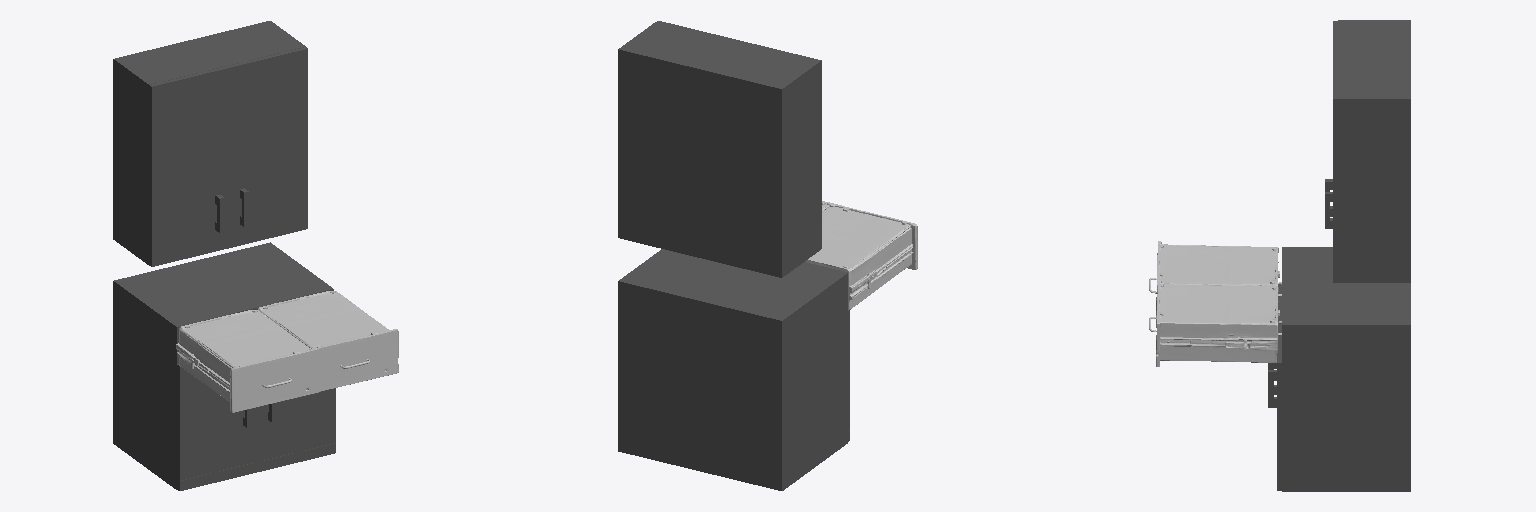
--- What the picture shows (computed from the rendered views, not written in the file) ---
Views: 3 orthographic renders of the robot side by side, from view 1: azimuth 30°, elevation 25°; view 2: azimuth 150°, elevation 25°; view 3: azimuth 270°, elevation 25°.
Model Scene with 11 links and 10 joints (4 revolute, 2 prismatic, 4 fixed), rooted at world, posed every joint at zero.
Links seen in each view (by area): view 1: lower_cabinet_corpus, upper_cabinet_door_0_0, upper_cabinet_door_1_0, upper_cabinet_corpus, lower_cabinet_drawer_0_0, lower_cabinet_drawer_1_0, lower_cabinet_door_0_1, lower_cabinet_door_1_1; view 2: lower_cabinet_corpus, upper_cabinet_corpus, lower_cabinet_drawer_0_0, upper_cabinet_door_0_0; view 3: lower_cabinet_corpus, upper_cabinet_corpus, lower_cabinet_drawer_1_0, lower_cabinet_drawer_0_0, upper_cabinet_door_1_0, lower_cabinet_door_1_1.
Link boxes in pixels (x1,y1,x2,y2): lower_cabinet_corpus: (113,242,335,490); upper_cabinet_door_0_0: (149,66,229,266); upper_cabinet_door_1_0: (228,47,307,247); upper_cabinet_corpus: (113,21,305,264); lower_cabinet_drawer_0_0: (176,310,319,412); lower_cabinet_drawer_1_0: (258,291,398,391); lower_cabinet_door_0_1: (177,364,257,480); lower_cabinet_door_1_1: (258,388,335,461); lower_cabinet_corpus: (618,249,849,490); upper_cabinet_corpus: (618,22,819,277); lower_cabinet_drawer_0_0: (805,202,917,309); upper_cabinet_door_0_0: (739,41,821,249); lower_cabinet_corpus: (1277,247,1410,491); upper_cabinet_corpus: (1338,20,1410,282); lower_cabinet_drawer_1_0: (1149,280,1281,366); lower_cabinet_drawer_0_0: (1149,241,1281,327); upper_cabinet_door_1_0: (1325,60,1337,282); lower_cabinet_door_1_1: (1268,324,1281,479).
Size in the robot's own frame: 0.8491 by 1.13 by 1.87 metres.
2 mesh visuals loaded from 2 distinct referenced files (2 OBJ).

URDF robot description (Scene):
<?xml version='1.0' encoding='ASCII'?>
<robot name="Scene">
  <link name="lower_cabinet_corpus">
    <inertial>
      <origin xyz="0.0 0.0 0.0" rpy="0.0 -0.0 0.0" />
      <mass value="0.0632288634258373" />
      <inertia ixx="1.0" ixy="0.0" ixz="0.0" iyy="1.0" iyz="0.0" izz="1.0" />
    </inertial>
    <visual name="lower_cabinet_back">
      <geometry>
        <box size="0.8 0.02 0.7742" />
      </geometry>
      <origin xyz="0.0 0.27999999999999997 0.3871" rpy="0.0 -0.0 0.0" />
      <material name="lower_cabinet_back_main_color">
        <color rgba="0.4 0.4 0.4 1.0" />
      </material>
    </visual>
    <visual name="lower_cabinet_closed_0_2">
      <geometry>
        <box size="0.796 0.02 0.04997751196172249" />
      </geometry>
      <origin xyz="0.0 -0.27999999999999997 0.026988755980861433" rpy="0.0 -0.0 0.0" />
      <material name="lower_cabinet_closed_0_2_main_color">
        <color rgba="0.4 0.4 0.4 1.0" />
      </material>
    </visual>
    <visual name="lower_cabinet_left">
      <geometry>
        <box size="0.02 0.5399999999999999 0.7742" />
      </geometry>
      <origin xyz="-0.39 0.0 0.3871" rpy="0.0 -0.0 0.0" />
      <material name="lower_cabinet_left_main_color">
        <color rgba="0.4 0.4 0.4 1.0" />
      </material>
    </visual>
    <visual name="lower_cabinet_right">
      <geometry>
        <box size="0.02 0.5399999999999999 0.7742" />
      </geometry>
      <origin xyz="0.39 0.0 0.3871" rpy="0.0 -0.0 0.0" />
      <material name="lower_cabinet_right_main_color">
        <color rgba="0.4 0.4 0.4 1.0" />
      </material>
    </visual>
    <visual name="lower_cabinet_separator_0_0">
      <geometry>
        <box size="0.01 0.5399999999999999 0.1614379249559305" />
      </geometry>
      <origin xyz="0.0 0.0 0.6934810375220347" rpy="0.0 -0.0 0.0" />
      <material name="lower_cabinet_separator_0_0_main_color">
        <color rgba="0.4 0.4 0.4 1.0" />
      </material>
    </visual>
    <visual name="lower_cabinet_separator_0_1">
      <geometry>
        <box size="0.01 0.5399999999999999 0.5602845630823469" />
      </geometry>
      <origin xyz="0.0 0.0 0.332619793502896" rpy="0.0 -0.0 0.0" />
      <material name="lower_cabinet_separator_0_1_main_color">
        <color rgba="0.4 0.4 0.4 1.0" />
      </material>
    </visual>
    <visual name="lower_cabinet_shelf_2_0_0">
      <geometry>
        <box size="0.375 0.5399999999999999 0.01" />
      </geometry>
      <origin xyz="-0.1925 0.0 0.3326197935028961" rpy="0.0 -0.0 0.0" />
      <material name="lower_cabinet_shelf_2_0_0_main_color">
        <color rgba="0.4 0.4 0.4 1.0" />
      </material>
    </visual>
    <visual name="lower_cabinet_shelf_3_0_0">
      <geometry>
        <box size="0.375 0.5399999999999999 0.01" />
      </geometry>
      <origin xyz="0.1925 0.0 0.3326197935028961" rpy="0.0 -0.0 0.0" />
      <material name="lower_cabinet_shelf_3_0_0_main_color">
        <color rgba="0.4 0.4 0.4 1.0" />
      </material>
    </visual>
    <visual name="lower_cabinet_surface_0_0">
      <geometry>
        <box size="0.38 0.5399999999999999 0.01" />
      </geometry>
      <origin xyz="-0.19 0.0 0.6127620750440694" rpy="0.0 -0.0 0.0" />
      <material name="lower_cabinet_surface_0_0_main_color">
        <color rgba="0.4 0.4 0.4 1.0" />
      </material>
    </visual>
    <visual name="lower_cabinet_surface_0_1">
      <geometry>
        <box size="0.38 0.5399999999999999 0.01" />
      </geometry>
      <origin xyz="-0.19 0.0 0.05247751196172257" rpy="0.0 -0.0 0.0" />
      <material name="lower_cabinet_surface_0_1_main_color">
        <color rgba="0.4 0.4 0.4 1.0" />
      </material>
    </visual>
    <visual name="lower_cabinet_surface_0_2">
      <geometry>
        <box size="0.38 0.5399999999999999 0.02" />
      </geometry>
      <origin xyz="-0.19 0.0 0.010000000000000191" rpy="0.0 -0.0 0.0" />
      <material name="lower_cabinet_surface_0_2_main_color">
        <color rgba="0.4 0.4 0.4 1.0" />
      </material>
    </visual>
    <visual name="lower_cabinet_surface_1_0">
      <geometry>
        <box size="0.38 0.5399999999999999 0.01" />
      </geometry>
      <origin xyz="0.19 0.0 0.6127620750440694" rpy="0.0 -0.0 0.0" />
      <material name="lower_cabinet_surface_1_0_main_color">
        <color rgba="0.4 0.4 0.4 1.0" />
      </material>
    </visual>
    <visual name="lower_cabinet_surface_1_1">
      <geometry>
        <box size="0.38 0.5399999999999999 0.01" />
      </geometry>
      <origin xyz="0.19 0.0 0.05247751196172257" rpy="0.0 -0.0 0.0" />
      <material name="lower_cabinet_surface_1_1_main_color">
        <color rgba="0.4 0.4 0.4 1.0" />
      </material>
    </visual>
    <visual name="lower_cabinet_surface_1_2">
      <geometry>
        <box size="0.38 0.5399999999999999 0.02" />
      </geometry>
      <origin xyz="0.19 0.0 0.010000000000000191" rpy="0.0 -0.0 0.0" />
      <material name="lower_cabinet_surface_1_2_main_color">
        <color rgba="0.4 0.4 0.4 1.0" />
      </material>
    </visual>
    <visual name="lower_cabinet_top">
      <geometry>
        <box size="0.8 0.5599999999999999 0.02" />
      </geometry>
      <origin xyz="0.0 0.01 0.7842" rpy="0.0 -0.0 0.0" />
      <material name="lower_cabinet_top_main_color">
        <color rgba="0.4 0.4 0.4 1.0" />
      </material>
    </visual>
    <collision name="lower_cabinet_back">
      <geometry>
        <box size="0.8 0.02 0.7742" />
      </geometry>
      <origin xyz="0.0 0.27999999999999997 0.3871" rpy="0.0 -0.0 0.0" />
    </collision>
    <collision name="lower_cabinet_closed_0_2">
      <geometry>
        <box size="0.796 0.02 0.04997751196172249" />
      </geometry>
      <origin xyz="0.0 -0.27999999999999997 0.026988755980861433" rpy="0.0 -0.0 0.0" />
    </collision>
    <collision name="lower_cabinet_left">
      <geometry>
        <box size="0.02 0.5399999999999999 0.7742" />
      </geometry>
      <origin xyz="-0.39 0.0 0.3871" rpy="0.0 -0.0 0.0" />
    </collision>
    <collision name="lower_cabinet_right">
      <geometry>
        <box size="0.02 0.5399999999999999 0.7742" />
      </geometry>
      <origin xyz="0.39 0.0 0.3871" rpy="0.0 -0.0 0.0" />
    </collision>
    <collision name="lower_cabinet_separator_0_0">
      <geometry>
        <box size="0.01 0.5399999999999999 0.1614379249559305" />
      </geometry>
      <origin xyz="0.0 0.0 0.6934810375220347" rpy="0.0 -0.0 0.0" />
    </collision>
    <collision name="lower_cabinet_separator_0_1">
      <geometry>
        <box size="0.01 0.5399999999999999 0.5602845630823469" />
      </geometry>
      <origin xyz="0.0 0.0 0.332619793502896" rpy="0.0 -0.0 0.0" />
    </collision>
    <collision name="lower_cabinet_shelf_2_0_0">
      <geometry>
        <box size="0.375 0.5399999999999999 0.01" />
      </geometry>
      <origin xyz="-0.1925 0.0 0.3326197935028961" rpy="0.0 -0.0 0.0" />
    </collision>
    <collision name="lower_cabinet_shelf_3_0_0">
      <geometry>
        <box size="0.375 0.5399999999999999 0.01" />
      </geometry>
      <origin xyz="0.1925 0.0 0.3326197935028961" rpy="0.0 -0.0 0.0" />
    </collision>
    <collision name="lower_cabinet_surface_0_0">
      <geometry>
        <box size="0.38 0.5399999999999999 0.01" />
      </geometry>
      <origin xyz="-0.19 0.0 0.6127620750440694" rpy="0.0 -0.0 0.0" />
    </collision>
    <collision name="lower_cabinet_surface_0_1">
      <geometry>
        <box size="0.38 0.5399999999999999 0.01" />
      </geometry>
      <origin xyz="-0.19 0.0 0.05247751196172257" rpy="0.0 -0.0 0.0" />
    </collision>
    <collision name="lower_cabinet_surface_0_2">
      <geometry>
        <box size="0.38 0.5399999999999999 0.02" />
      </geometry>
      <origin xyz="-0.19 0.0 0.010000000000000191" rpy="0.0 -0.0 0.0" />
    </collision>
    <collision name="lower_cabinet_surface_1_0">
      <geometry>
        <box size="0.38 0.5399999999999999 0.01" />
      </geometry>
      <origin xyz="0.19 0.0 0.6127620750440694" rpy="0.0 -0.0 0.0" />
    </collision>
    <collision name="lower_cabinet_surface_1_1">
      <geometry>
        <box size="0.38 0.5399999999999999 0.01" />
      </geometry>
      <origin xyz="0.19 0.0 0.05247751196172257" rpy="0.0 -0.0 0.0" />
    </collision>
    <collision name="lower_cabinet_surface_1_2">
      <geometry>
        <box size="0.38 0.5399999999999999 0.02" />
      </geometry>
      <origin xyz="0.19 0.0 0.010000000000000191" rpy="0.0 -0.0 0.0" />
    </collision>
    <collision name="lower_cabinet_top">
      <geometry>
        <box size="0.8 0.5599999999999999 0.02" />
      </geometry>
      <origin xyz="0.0 0.01 0.7842" rpy="0.0 -0.0 0.0" />
    </collision>
  </link>
  <link name="lower_cabinet_drawer_0_0">
    <inertial>
      <origin xyz="0.0 0.0 0.0" rpy="0.0 -0.0 0.0" />
      <mass value="0.10000000000000002" />
      <inertia ixx="1.0" ixy="0.0" ixz="0.0" iyy="1.0" iyz="0.0" izz="1.0" />
    </inertial>
    <visual><geometry><mesh filename="initial_scene/lower_cabinet_drawer_0_0.obj" /></geometry><material name="lower_cabinet_drawer_0_0_material"><color rgba="0.8 0.8 0.8 1.0" /></material></visual><collision><geometry><box size="0.397500 0.614100 0.178938" /></geometry><origin xyz="-0.006750 0.176950 0.006750" rpy="0 0 0" /></collision></link>
  <link name="lower_cabinet_drawer_1_0">
    <inertial>
      <origin xyz="0.0 0.0 0.0" rpy="0.0 -0.0 0.0" />
      <mass value="0.10000000000000002" />
      <inertia ixx="1.0" ixy="0.0" ixz="0.0" iyy="1.0" iyz="0.0" izz="1.0" />
    </inertial>
    <visual><geometry><mesh filename="initial_scene/lower_cabinet_drawer_1_0.obj" /></geometry><material name="lower_cabinet_drawer_1_0_material"><color rgba="0.8 0.8 0.8 1.0" /></material></visual><collision><geometry><box size="0.397500 0.614100 0.178938" /></geometry><origin xyz="0.006750 0.176950 0.006750" rpy="0 0 0" /></collision></link>
  <link name="lower_cabinet_door_0_1">
    <inertial>
      <origin xyz="0.0 0.0 0.0" rpy="0.0 -0.0 0.0" />
      <mass value="0.1" />
      <inertia ixx="1.0" ixy="0.0" ixz="0.0" iyy="1.0" iyz="0.0" izz="1.0" />
    </inertial>
    <visual name="lower_cabinet_door_0_1_door">
      <geometry>
        <box size="0.3975 0.02 0.5592845630823469" />
      </geometry>
      <origin xyz="0.19875 0.01 0.0" rpy="0.0 -0.0 0.0" />
      <material name="lower_cabinet_door_0_1_door_main_color">
        <color rgba="0.4 0.4 0.4 1.0" />
      </material>
    </visual>
    <visual name="lower_cabinet_door_0_1_handle_part_0">
      <geometry>
        <box size="0.024 0.1682 0.024" />
      </geometry>
      <origin xyz="0.3355 -0.026 0.0" rpy="1.5707963267948966 -0.0 1.5707963267948966" />
      <material name="lower_cabinet_door_0_1_handle_part_0_main_color">
        <color rgba="0.4 0.4 0.4 1.0" />
      </material>
    </visual>
    <visual name="lower_cabinet_door_0_1_handle_part_1">
      <geometry>
        <box size="0.013999999999999999 0.04 0.024" />
      </geometry>
      <origin xyz="0.3355 -0.006999999999999999 -0.06409999999999999" rpy="1.5707963267948966 -0.0 1.5707963267948966" />
      <material name="lower_cabinet_door_0_1_handle_part_1_main_color">
        <color rgba="0.4 0.4 0.4 1.0" />
      </material>
    </visual>
    <visual name="lower_cabinet_door_0_1_handle_part_2">
      <geometry>
        <box size="0.013999999999999999 0.04 0.024" />
      </geometry>
      <origin xyz="0.3355 -0.006999999999999999 0.06409999999999999" rpy="1.5707963267948966 -0.0 1.5707963267948966" />
      <material name="lower_cabinet_door_0_1_handle_part_2_main_color">
        <color rgba="0.4 0.4 0.4 1.0" />
      </material>
    </visual>
    <collision name="lower_cabinet_door_0_1_door">
      <geometry>
        <box size="0.3975 0.02 0.5592845630823469" />
      </geometry>
      <origin xyz="0.19875 0.01 0.0" rpy="0.0 -0.0 0.0" />
    </collision>
    <collision name="lower_cabinet_door_0_1_handle_part_0">
      <geometry>
        <box size="0.024 0.1682 0.024" />
      </geometry>
      <origin xyz="0.3355 -0.026 0.0" rpy="1.5707963267948966 -0.0 1.5707963267948966" />
    </collision>
    <collision name="lower_cabinet_door_0_1_handle_part_1">
      <geometry>
        <box size="0.013999999999999999 0.04 0.024" />
      </geometry>
      <origin xyz="0.3355 -0.006999999999999999 -0.06409999999999999" rpy="1.5707963267948966 -0.0 1.5707963267948966" />
    </collision>
    <collision name="lower_cabinet_door_0_1_handle_part_2">
      <geometry>
        <box size="0.013999999999999999 0.04 0.024" />
      </geometry>
      <origin xyz="0.3355 -0.006999999999999999 0.06409999999999999" rpy="1.5707963267948966 -0.0 1.5707963267948966" />
    </collision>
  </link>
  <link name="lower_cabinet_door_1_1">
    <inertial>
      <origin xyz="0.0 0.0 0.0" rpy="0.0 -0.0 0.0" />
      <mass value="0.1" />
      <inertia ixx="1.0" ixy="0.0" ixz="0.0" iyy="1.0" iyz="0.0" izz="1.0" />
    </inertial>
    <visual name="lower_cabinet_door_1_1_door">
      <geometry>
        <box size="0.3975 0.02 0.5592845630823469" />
      </geometry>
      <origin xyz="-0.19875 0.01 0.0" rpy="0.0 -0.0 0.0" />
      <material name="lower_cabinet_door_1_1_door_main_color">
        <color rgba="0.4 0.4 0.4 1.0" />
      </material>
    </visual>
    <visual name="lower_cabinet_door_1_1_handle_part_0">
      <geometry>
        <box size="0.024 0.1682 0.024" />
      </geometry>
      <origin xyz="-0.3355 -0.026 0.0" rpy="1.5707963267948966 -0.0 1.5707963267948966" />
      <material name="lower_cabinet_door_1_1_handle_part_0_main_color">
        <color rgba="0.4 0.4 0.4 1.0" />
      </material>
    </visual>
    <visual name="lower_cabinet_door_1_1_handle_part_1">
      <geometry>
        <box size="0.013999999999999999 0.04 0.024" />
      </geometry>
      <origin xyz="-0.3355 -0.006999999999999999 -0.06409999999999999" rpy="1.5707963267948966 -0.0 1.5707963267948966" />
      <material name="lower_cabinet_door_1_1_handle_part_1_main_color">
        <color rgba="0.4 0.4 0.4 1.0" />
      </material>
    </visual>
    <visual name="lower_cabinet_door_1_1_handle_part_2">
      <geometry>
        <box size="0.013999999999999999 0.04 0.024" />
      </geometry>
      <origin xyz="-0.3355 -0.006999999999999999 0.06409999999999999" rpy="1.5707963267948966 -0.0 1.5707963267948966" />
      <material name="lower_cabinet_door_1_1_handle_part_2_main_color">
        <color rgba="0.4 0.4 0.4 1.0" />
      </material>
    </visual>
    <collision name="lower_cabinet_door_1_1_door">
      <geometry>
        <box size="0.3975 0.02 0.5592845630823469" />
      </geometry>
      <origin xyz="-0.19875 0.01 0.0" rpy="0.0 -0.0 0.0" />
    </collision>
    <collision name="lower_cabinet_door_1_1_handle_part_0">
      <geometry>
        <box size="0.024 0.1682 0.024" />
      </geometry>
      <origin xyz="-0.3355 -0.026 0.0" rpy="1.5707963267948966 -0.0 1.5707963267948966" />
    </collision>
    <collision name="lower_cabinet_door_1_1_handle_part_1">
      <geometry>
        <box size="0.013999999999999999 0.04 0.024" />
      </geometry>
      <origin xyz="-0.3355 -0.006999999999999999 -0.06409999999999999" rpy="1.5707963267948966 -0.0 1.5707963267948966" />
    </collision>
    <collision name="lower_cabinet_door_1_1_handle_part_2">
      <geometry>
        <box size="0.013999999999999999 0.04 0.024" />
      </geometry>
      <origin xyz="-0.3355 -0.006999999999999999 0.06409999999999999" rpy="1.5707963267948966 -0.0 1.5707963267948966" />
    </collision>
  </link>
  <link name="upper_cabinet_corpus">
    <inertial>
      <origin xyz="0.0 0.0 0.0" rpy="0.0 -0.0 0.0" />
      <mass value="0.024543200000000008" />
      <inertia ixx="1.0" ixy="0.0" ixz="0.0" iyy="1.0" iyz="0.0" izz="1.0" />
    </inertial>
    <visual name="upper_cabinet_back">
      <geometry>
        <box size="0.8 0.01 0.87" />
      </geometry>
      <origin xyz="0.0 0.16300000000000003 0.435" rpy="0.0 -0.0 0.0" />
      <material name="upper_cabinet_back_main_color">
        <color rgba="0.4 0.4 0.4 1.0" />
      </material>
    </visual>
    <visual name="upper_cabinet_left">
      <geometry>
        <box size="0.01 0.30600000000000005 0.87" />
      </geometry>
      <origin xyz="-0.395 0.005 0.435" rpy="0.0 -0.0 0.0" />
      <material name="upper_cabinet_left_main_color">
        <color rgba="0.4 0.4 0.4 1.0" />
      </material>
    </visual>
    <visual name="upper_cabinet_right">
      <geometry>
        <box size="0.01 0.30600000000000005 0.87" />
      </geometry>
      <origin xyz="0.395 0.005 0.435" rpy="0.0 -0.0 0.0" />
      <material name="upper_cabinet_right_main_color">
        <color rgba="0.4 0.4 0.4 1.0" />
      </material>
    </visual>
    <visual name="upper_cabinet_separator_0_0">
      <geometry>
        <box size="0.01 0.30600000000000005 0.86" />
      </geometry>
      <origin xyz="0.0 0.005 0.44" rpy="0.0 -0.0 0.0" />
      <material name="upper_cabinet_separator_0_0_main_color">
        <color rgba="0.4 0.4 0.4 1.0" />
      </material>
    </visual>
    <visual name="upper_cabinet_shelf_0_0_0">
      <geometry>
        <box size="0.385 0.30600000000000005 0.01" />
      </geometry>
      <origin xyz="-0.1975 0.005 0.5833333333333333" rpy="0.0 -0.0 0.0" />
      <material name="upper_cabinet_shelf_0_0_0_main_color">
        <color rgba="0.4 0.4 0.4 1.0" />
      </material>
    </visual>
    <visual name="upper_cabinet_shelf_0_0_1">
      <geometry>
        <box size="0.385 0.30600000000000005 0.01" />
      </geometry>
      <origin xyz="-0.1975 0.005 0.29666666666666663" rpy="0.0 -0.0 0.0" />
      <material name="upper_cabinet_shelf_0_0_1_main_color">
        <color rgba="0.4 0.4 0.4 1.0" />
      </material>
    </visual>
    <visual name="upper_cabinet_shelf_1_0_0">
      <geometry>
        <box size="0.385 0.30600000000000005 0.01" />
      </geometry>
      <origin xyz="0.1975 0.005 0.5833333333333333" rpy="0.0 -0.0 0.0" />
      <material name="upper_cabinet_shelf_1_0_0_main_color">
        <color rgba="0.4 0.4 0.4 1.0" />
      </material>
    </visual>
    <visual name="upper_cabinet_shelf_1_0_1">
      <geometry>
        <box size="0.385 0.30600000000000005 0.01" />
      </geometry>
      <origin xyz="0.1975 0.005 0.29666666666666663" rpy="0.0 -0.0 0.0" />
      <material name="upper_cabinet_shelf_1_0_1_main_color">
        <color rgba="0.4 0.4 0.4 1.0" />
      </material>
    </visual>
    <visual name="upper_cabinet_surface_0_0">
      <geometry>
        <box size="0.39 0.30600000000000005 0.01" />
      </geometry>
      <origin xyz="-0.195 0.005 0.005000000000000009" rpy="0.0 -0.0 0.0" />
      <material name="upper_cabinet_surface_0_0_main_color">
        <color rgba="0.4 0.4 0.4 1.0" />
      </material>
    </visual>
    <visual name="upper_cabinet_surface_1_0">
      <geometry>
        <box size="0.39 0.30600000000000005 0.01" />
      </geometry>
      <origin xyz="0.195 0.005 0.005000000000000009" rpy="0.0 -0.0 0.0" />
      <material name="upper_cabinet_surface_1_0_main_color">
        <color rgba="0.4 0.4 0.4 1.0" />
      </material>
    </visual>
    <visual name="upper_cabinet_top">
      <geometry>
        <box size="0.8 0.31600000000000006 0.01" />
      </geometry>
      <origin xyz="0.0 0.01 0.875" rpy="0.0 -0.0 0.0" />
      <material name="upper_cabinet_top_main_color">
        <color rgba="0.4 0.4 0.4 1.0" />
      </material>
    </visual>
    <collision name="upper_cabinet_back">
      <geometry>
        <box size="0.8 0.01 0.87" />
      </geometry>
      <origin xyz="0.0 0.16300000000000003 0.435" rpy="0.0 -0.0 0.0" />
    </collision>
    <collision name="upper_cabinet_left">
      <geometry>
        <box size="0.01 0.30600000000000005 0.87" />
      </geometry>
      <origin xyz="-0.395 0.005 0.435" rpy="0.0 -0.0 0.0" />
    </collision>
    <collision name="upper_cabinet_right">
      <geometry>
        <box size="0.01 0.30600000000000005 0.87" />
      </geometry>
      <origin xyz="0.395 0.005 0.435" rpy="0.0 -0.0 0.0" />
    </collision>
    <collision name="upper_cabinet_separator_0_0">
      <geometry>
        <box size="0.01 0.30600000000000005 0.86" />
      </geometry>
      <origin xyz="0.0 0.005 0.44" rpy="0.0 -0.0 0.0" />
    </collision>
    <collision name="upper_cabinet_shelf_0_0_0">
      <geometry>
        <box size="0.385 0.30600000000000005 0.01" />
      </geometry>
      <origin xyz="-0.1975 0.005 0.5833333333333333" rpy="0.0 -0.0 0.0" />
    </collision>
    <collision name="upper_cabinet_shelf_0_0_1">
      <geometry>
        <box size="0.385 0.30600000000000005 0.01" />
      </geometry>
      <origin xyz="-0.1975 0.005 0.29666666666666663" rpy="0.0 -0.0 0.0" />
    </collision>
    <collision name="upper_cabinet_shelf_1_0_0">
      <geometry>
        <box size="0.385 0.30600000000000005 0.01" />
      </geometry>
      <origin xyz="0.1975 0.005 0.5833333333333333" rpy="0.0 -0.0 0.0" />
    </collision>
    <collision name="upper_cabinet_shelf_1_0_1">
      <geometry>
        <box size="0.385 0.30600000000000005 0.01" />
      </geometry>
      <origin xyz="0.1975 0.005 0.29666666666666663" rpy="0.0 -0.0 0.0" />
    </collision>
    <collision name="upper_cabinet_surface_0_0">
      <geometry>
        <box size="0.39 0.30600000000000005 0.01" />
      </geometry>
      <origin xyz="-0.195 0.005 0.005000000000000009" rpy="0.0 -0.0 0.0" />
    </collision>
    <collision name="upper_cabinet_surface_1_0">
      <geometry>
        <box size="0.39 0.30600000000000005 0.01" />
      </geometry>
      <origin xyz="0.195 0.005 0.005000000000000009" rpy="0.0 -0.0 0.0" />
    </collision>
    <collision name="upper_cabinet_top">
      <geometry>
        <box size="0.8 0.31600000000000006 0.01" />
      </geometry>
      <origin xyz="0.0 0.01 0.875" rpy="0.0 -0.0 0.0" />
    </collision>
  </link>
  <link name="upper_cabinet_door_0_0">
    <inertial>
      <origin xyz="0.0 0.0 0.0" rpy="0.0 -0.0 0.0" />
      <mass value="0.09999999999999998" />
      <inertia ixx="1.0" ixy="0.0" ixz="0.0" iyy="1.0" iyz="0.0" izz="1.0" />
    </inertial>
    <visual name="upper_cabinet_door_0_0_door">
      <geometry>
        <box size="0.3985 0.02 0.878" />
      </geometry>
      <origin xyz="0.19925 0.01 0.0" rpy="0.0 -0.0 0.0" />
      <material name="upper_cabinet_door_0_0_door_main_color">
        <color rgba="0.4 0.4 0.4 1.0" />
      </material>
    </visual>
    <visual name="upper_cabinet_door_0_0_handle_part_0">
      <geometry>
        <box size="0.024 0.1682 0.024" />
      </geometry>
      <origin xyz="0.3365 -0.026 -0.25" rpy="1.5707963267948966 -0.0 1.5707963267948966" />
      <material name="upper_cabinet_door_0_0_handle_part_0_main_color">
        <color rgba="0.4 0.4 0.4 1.0" />
      </material>
    </visual>
    <visual name="upper_cabinet_door_0_0_handle_part_1">
      <geometry>
        <box size="0.013999999999999999 0.04 0.024" />
      </geometry>
      <origin xyz="0.3365 -0.006999999999999999 -0.3141" rpy="1.5707963267948966 -0.0 1.5707963267948966" />
      <material name="upper_cabinet_door_0_0_handle_part_1_main_color">
        <color rgba="0.4 0.4 0.4 1.0" />
      </material>
    </visual>
    <visual name="upper_cabinet_door_0_0_handle_part_2">
      <geometry>
        <box size="0.013999999999999999 0.04 0.024" />
      </geometry>
      <origin xyz="0.3365 -0.006999999999999999 -0.1859" rpy="1.5707963267948966 -0.0 1.5707963267948966" />
      <material name="upper_cabinet_door_0_0_handle_part_2_main_color">
        <color rgba="0.4 0.4 0.4 1.0" />
      </material>
    </visual>
    <collision name="upper_cabinet_door_0_0_door">
      <geometry>
        <box size="0.3985 0.02 0.878" />
      </geometry>
      <origin xyz="0.19925 0.01 0.0" rpy="0.0 -0.0 0.0" />
    </collision>
    <collision name="upper_cabinet_door_0_0_handle_part_0">
      <geometry>
        <box size="0.024 0.1682 0.024" />
      </geometry>
      <origin xyz="0.3365 -0.026 -0.25" rpy="1.5707963267948966 -0.0 1.5707963267948966" />
    </collision>
    <collision name="upper_cabinet_door_0_0_handle_part_1">
      <geometry>
        <box size="0.013999999999999999 0.04 0.024" />
      </geometry>
      <origin xyz="0.3365 -0.006999999999999999 -0.3141" rpy="1.5707963267948966 -0.0 1.5707963267948966" />
    </collision>
    <collision name="upper_cabinet_door_0_0_handle_part_2">
      <geometry>
        <box size="0.013999999999999999 0.04 0.024" />
      </geometry>
      <origin xyz="0.3365 -0.006999999999999999 -0.1859" rpy="1.5707963267948966 -0.0 1.5707963267948966" />
    </collision>
  </link>
  <link name="upper_cabinet_door_1_0">
    <inertial>
      <origin xyz="0.0 0.0 0.0" rpy="0.0 -0.0 0.0" />
      <mass value="0.09999999999999998" />
      <inertia ixx="1.0" ixy="0.0" ixz="0.0" iyy="1.0" iyz="0.0" izz="1.0" />
    </inertial>
    <visual name="upper_cabinet_door_1_0_door">
      <geometry>
        <box size="0.3985 0.02 0.878" />
      </geometry>
      <origin xyz="-0.19925 0.01 0.0" rpy="0.0 -0.0 0.0" />
      <material name="upper_cabinet_door_1_0_door_main_color">
        <color rgba="0.4 0.4 0.4 1.0" />
      </material>
    </visual>
    <visual name="upper_cabinet_door_1_0_handle_part_0">
      <geometry>
        <box size="0.024 0.1682 0.024" />
      </geometry>
      <origin xyz="-0.3365 -0.026 -0.25" rpy="1.5707963267948966 -0.0 1.5707963267948966" />
      <material name="upper_cabinet_door_1_0_handle_part_0_main_color">
        <color rgba="0.4 0.4 0.4 1.0" />
      </material>
    </visual>
    <visual name="upper_cabinet_door_1_0_handle_part_1">
      <geometry>
        <box size="0.013999999999999999 0.04 0.024" />
      </geometry>
      <origin xyz="-0.3365 -0.006999999999999999 -0.3141" rpy="1.5707963267948966 -0.0 1.5707963267948966" />
      <material name="upper_cabinet_door_1_0_handle_part_1_main_color">
        <color rgba="0.4 0.4 0.4 1.0" />
      </material>
    </visual>
    <visual name="upper_cabinet_door_1_0_handle_part_2">
      <geometry>
        <box size="0.013999999999999999 0.04 0.024" />
      </geometry>
      <origin xyz="-0.3365 -0.006999999999999999 -0.1859" rpy="1.5707963267948966 -0.0 1.5707963267948966" />
      <material name="upper_cabinet_door_1_0_handle_part_2_main_color">
        <color rgba="0.4 0.4 0.4 1.0" />
      </material>
    </visual>
    <collision name="upper_cabinet_door_1_0_door">
      <geometry>
        <box size="0.3985 0.02 0.878" />
      </geometry>
      <origin xyz="-0.19925 0.01 0.0" rpy="0.0 -0.0 0.0" />
    </collision>
    <collision name="upper_cabinet_door_1_0_handle_part_0">
      <geometry>
        <box size="0.024 0.1682 0.024" />
      </geometry>
      <origin xyz="-0.3365 -0.026 -0.25" rpy="1.5707963267948966 -0.0 1.5707963267948966" />
    </collision>
    <collision name="upper_cabinet_door_1_0_handle_part_1">
      <geometry>
        <box size="0.013999999999999999 0.04 0.024" />
      </geometry>
      <origin xyz="-0.3365 -0.006999999999999999 -0.3141" rpy="1.5707963267948966 -0.0 1.5707963267948966" />
    </collision>
    <collision name="upper_cabinet_door_1_0_handle_part_2">
      <geometry>
        <box size="0.013999999999999999 0.04 0.024" />
      </geometry>
      <origin xyz="-0.3365 -0.006999999999999999 -0.1859" rpy="1.5707963267948966 -0.0 1.5707963267948966" />
    </collision>
  </link>
  <link name="world" />
  <link name="lower_cabinet" />
  <link name="upper_cabinet" />
  <joint name="lower_cabinet_world_fixed_joint" type="fixed">
    <parent link="world" />
    <child link="lower_cabinet" />
    <origin xyz="0.0 0.0 0.0" rpy="0.0 -0.0 0.0" />
  </joint>
  <joint name="lower_cabinet_corpus_to_drawer_0_0" type="prismatic">
    <parent link="lower_cabinet_corpus" />
    <child link="lower_cabinet_drawer_0_0" />
    <origin xyz="-0.1925 -0.26999999999999996 0.6959810375220348" rpy="0.0 -0.0 0.0" />
    <axis xyz="0 -1 0" />
    <limit effort="1000.0" velocity="1.0" lower="0.0" upper="0.4536" />
  </joint>
  <joint name="lower_cabinet_corpus_to_drawer_1_0" type="prismatic">
    <parent link="lower_cabinet_corpus" />
    <child link="lower_cabinet_drawer_1_0" />
    <origin xyz="0.1925 -0.26999999999999996 0.6959810375220348" rpy="0.0 -0.0 0.0" />
    <axis xyz="0 -1 0" />
    <limit effort="1000.0" velocity="1.0" lower="0.0" upper="0.4536" />
  </joint>
  <joint name="lower_cabinet_corpus_to_door_0_1" type="revolute">
    <parent link="lower_cabinet_corpus" />
    <child link="lower_cabinet_door_0_1" />
    <origin xyz="-0.398 -0.29 0.3326197935028961" rpy="0.0 -0.0 0.0" />
    <axis xyz="0 0 -1" />
    <limit effort="1000.0" velocity="0.1" lower="0.0" upper="1.5707963267948966" />
  </joint>
  <joint name="lower_cabinet_corpus_to_door_1_1" type="revolute">
    <parent link="lower_cabinet_corpus" />
    <child link="lower_cabinet_door_1_1" />
    <origin xyz="0.398 -0.29 0.3326197935028961" rpy="0.0 -0.0 0.0" />
    <axis xyz="0 0 1" />
    <limit effort="1000.0" velocity="0.1" lower="0.0" upper="1.5707963267948966" />
  </joint>
  <joint name="lower_cabinet_origin_joint" type="fixed">
    <parent link="lower_cabinet" />
    <child link="lower_cabinet_corpus" />
    <origin xyz="0.0 0.0 0.0" rpy="0.0 -0.0 0.0" />
  </joint>
  <joint name="upper_cabinet_world_fixed_joint" type="fixed">
    <parent link="world" />
    <child link="upper_cabinet" />
    <origin xyz="0.0 0.12199999999999994 0.9942" rpy="0.0 -0.0 0.0" />
  </joint>
  <joint name="upper_cabinet_corpus_to_door_0_0" type="revolute">
    <parent link="upper_cabinet_corpus" />
    <child link="upper_cabinet_door_0_0" />
    <origin xyz="-0.399 -0.16800000000000004 0.44" rpy="0.0 -0.0 0.0" />
    <axis xyz="0 0 -1" />
    <limit effort="1000.0" velocity="0.1" lower="0.0" upper="1.5707963267948966" />
  </joint>
  <joint name="upper_cabinet_corpus_to_door_1_0" type="revolute">
    <parent link="upper_cabinet_corpus" />
    <child link="upper_cabinet_door_1_0" />
    <origin xyz="0.399 -0.16800000000000004 0.44" rpy="0.0 -0.0 0.0" />
    <axis xyz="0 0 1" />
    <limit effort="1000.0" velocity="0.1" lower="0.0" upper="1.5707963267948966" />
  </joint>
  <joint name="upper_cabinet_origin_joint" type="fixed">
    <parent link="upper_cabinet" />
    <child link="upper_cabinet_corpus" />
    <origin xyz="0.0 0.0 0.0" rpy="0.0 -0.0 0.0" />
  </joint>
</robot>
